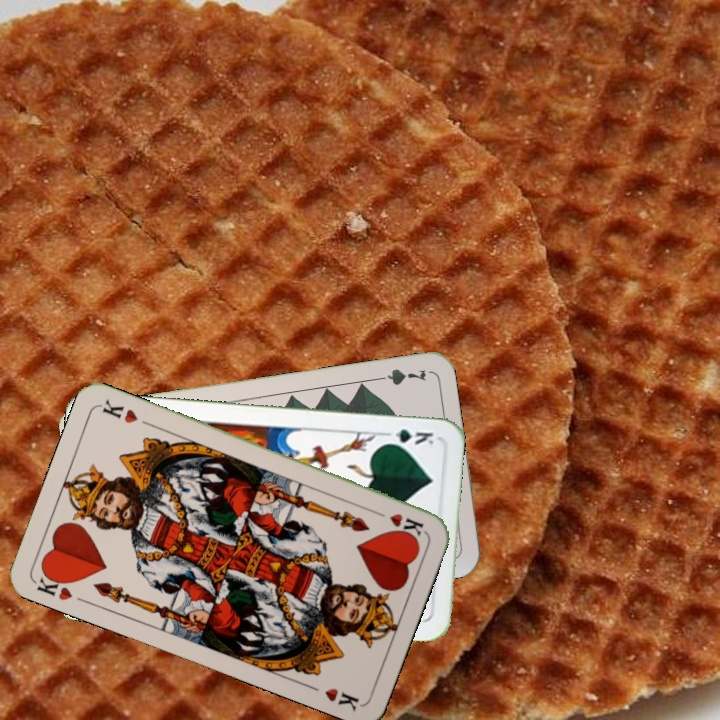G7: (370, 364, 429, 388)
GK: (379, 424, 436, 447)
HK: (369, 506, 427, 539), (32, 567, 76, 603)
